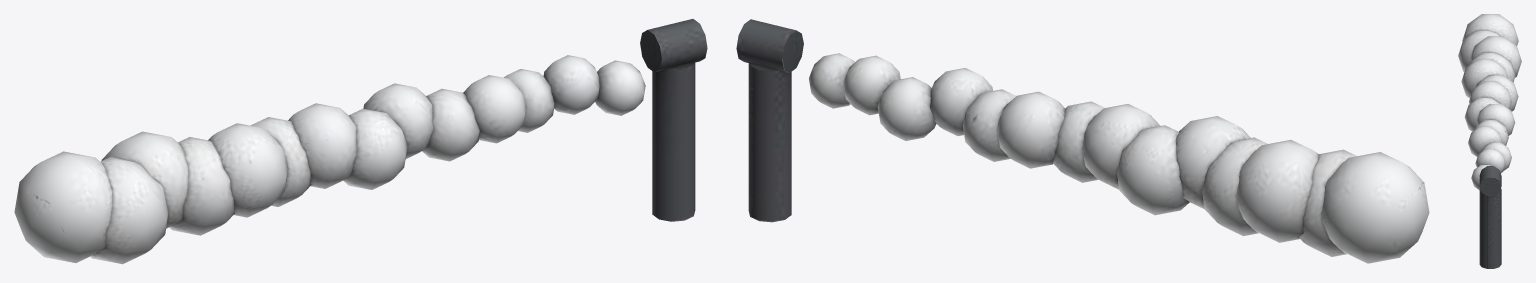
Rendered from chorro_vapor.glb.
3 views of the same model, side by side, from view 1: azimuth 30°, elevation 25°; view 2: azimuth 150°, elevation 25°; view 3: azimuth 270°, elevation 25° (orthographic). The views are drawn at different scales.
Visible parts, largest first — view 1: chorro_vapor; view 2: chorro_vapor; view 3: chorro_vapor.
Boxes of the visible parts, x1=… form: chorro_vapor: x1=14, y1=19, x2=707, y2=264; chorro_vapor: x1=736, y1=19, x2=1429, y2=263; chorro_vapor: x1=1458, y1=14, x2=1521, y2=268.
Bounding box in the file's own units: 8.86 × 2.57 × 1.46.
Materials: 1 (1 with a texture image).
